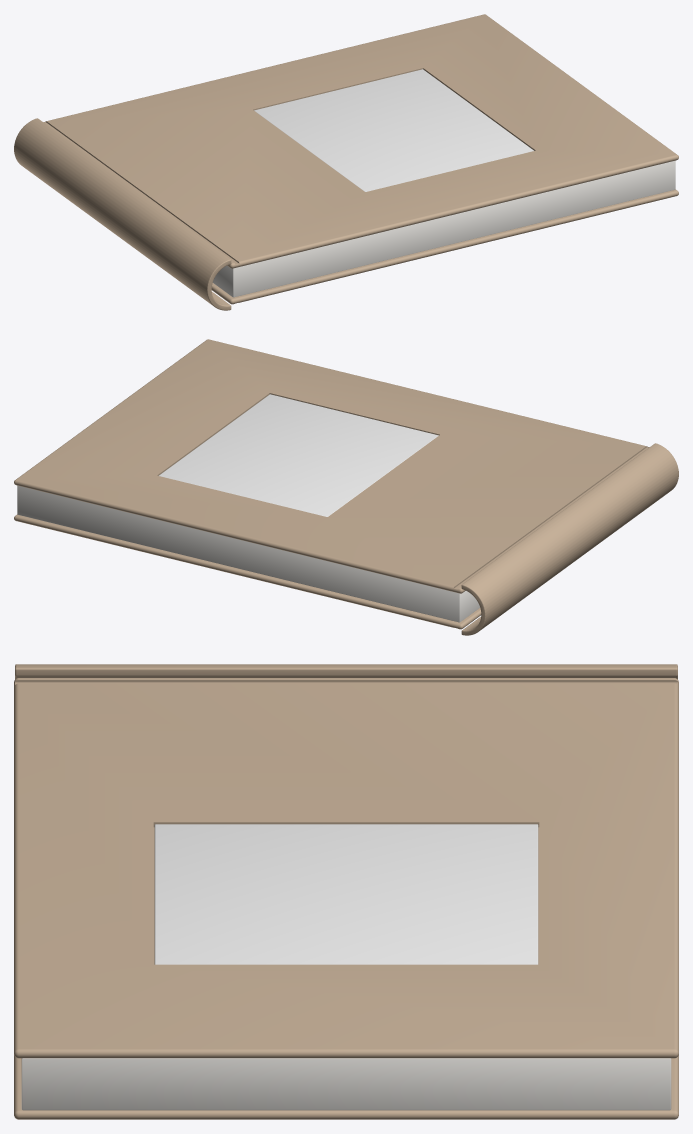
Rendered from photo-vertical--landscape.glb.
The picture shows the model from 3 angles, top to bottom: view 1: azimuth 30°, elevation 25°; view 2: azimuth 150°, elevation 25°; view 3: azimuth 270°, elevation 25°; orthographic projection. The views are drawn at different scales.
Visible parts, largest first — view 1: CoverFront, Photo, Pages, Spine, CoverBack; view 2: CoverFront, Photo, Pages, Spine, CoverBack; view 3: CoverFront, Photo, Pages, Spine, CoverBack.
Boxes of the visible parts, x1,y1,x2,y2 form: CoverFront: (43, 14, 678, 268); Photo: (254, 69, 533, 191); Pages: (213, 160, 675, 297); Spine: (14, 118, 231, 310); CoverBack: (211, 189, 678, 304); CoverFront: (14, 339, 649, 593); Photo: (159, 394, 438, 516); Pages: (17, 485, 479, 622); Spine: (461, 443, 678, 635); CoverBack: (14, 514, 481, 629); CoverFront: (14, 678, 678, 1058); Photo: (154, 824, 538, 964); Pages: (21, 1058, 671, 1110); Spine: (15, 664, 677, 679); CoverBack: (14, 1055, 678, 1119).
Size of the model in its own units: 0.4208 by 0.043 by 0.3.
